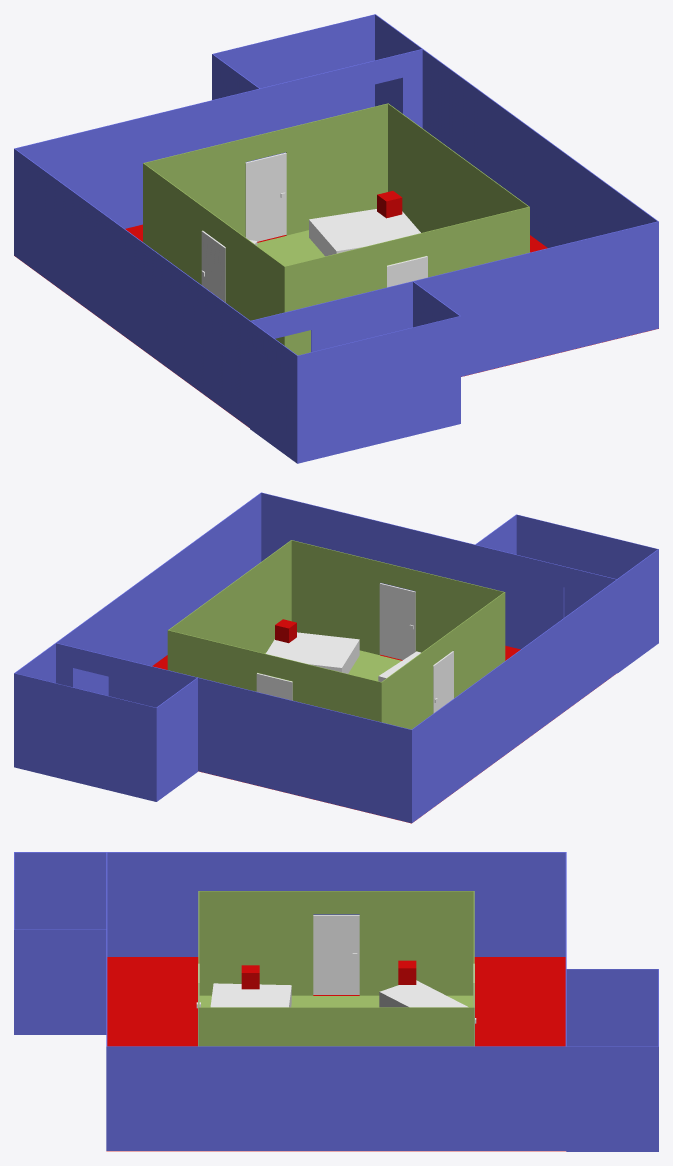
The picture shows the model from 3 angles, top to bottom: view 1: azimuth 30°, elevation 25°; view 2: azimuth 150°, elevation 25°; view 3: azimuth 270°, elevation 25°; orthographic projection. The views are drawn at different scales.
Parts seen in each view (by area): view 1: Corridor_Walls, Room_Box, Entrance_1, Entrance_2, Door_3, Bed_4, Door_2, Door_1, Ground_Red; view 2: Corridor_Walls, Room_Box, Entrance_2, Entrance_1, Door_1, Bed_3, Door_2, Door_3, Ground_Red; view 3: Corridor_Walls, Room_Box, Entrance_2, Entrance_1, Ground_Red, Door_2, Bed_2, Bed_1, Pillow_4, Pillow_1.
Boxes of the visible parts, box(x1,y1,x2,y2) form: Corridor_Walls: box(14, 49, 658, 427); Room_Box: box(143, 103, 529, 355); Entrance_1: box(250, 281, 460, 463); Entrance_2: box(212, 14, 422, 112); Door_3: box(245, 152, 286, 241); Bed_4: box(309, 209, 420, 256); Door_2: box(201, 231, 225, 302); Door_1: box(387, 256, 427, 287); Ground_Red: box(15, 224, 658, 427); Corridor_Walls: box(56, 492, 617, 823); Room_Box: box(167, 540, 505, 729); Entrance_2: box(14, 643, 197, 801); Entrance_1: box(475, 514, 658, 673); Door_1: box(379, 583, 415, 659); Bed_3: box(262, 632, 359, 675); Door_2: box(433, 651, 453, 713); Door_3: box(256, 673, 292, 700); Ground_Red: box(152, 645, 615, 823); Corridor_Walls: box(106, 852, 566, 1150); Room_Box: box(198, 891, 474, 1046); Entrance_2: box(566, 969, 658, 1151); Entrance_1: box(14, 852, 106, 1034); Ground_Red: box(106, 957, 565, 1151); Door_2: box(313, 915, 359, 994); Bed_2: box(210, 983, 291, 1007); Bed_1: box(379, 980, 468, 1007); Pillow_4: box(398, 960, 416, 984); Pillow_1: box(241, 965, 259, 989).
Size of the model in its own units: 1000 by 252 by 1401.
